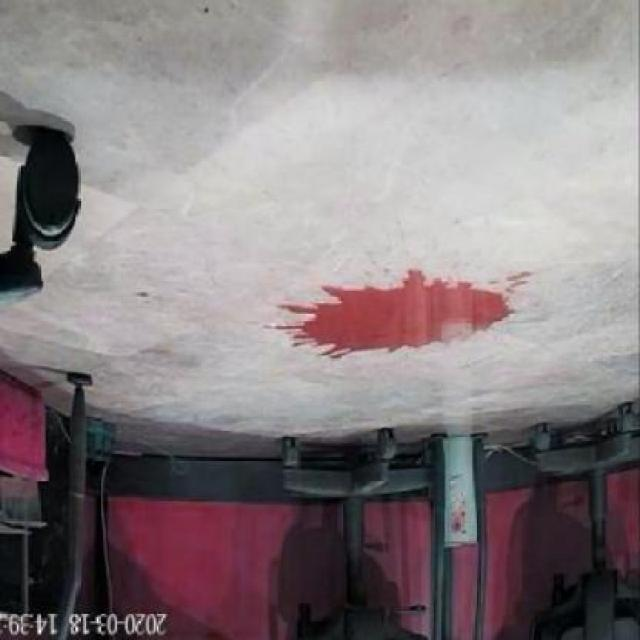spillage: (289, 270, 511, 353)
